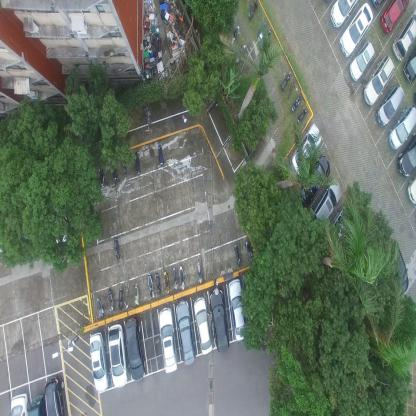car: (338, 1, 374, 57), (361, 54, 396, 108), (288, 122, 322, 176), (299, 151, 330, 210), (312, 174, 343, 226), (124, 316, 146, 382), (158, 306, 179, 375), (175, 299, 196, 367), (107, 322, 128, 389), (88, 330, 110, 393), (209, 287, 230, 353), (388, 103, 416, 152), (192, 296, 214, 356), (385, 237, 408, 294), (228, 277, 248, 342), (375, 83, 404, 127), (392, 8, 416, 61), (325, 205, 352, 247), (348, 40, 375, 81), (379, 0, 409, 35), (396, 130, 416, 177), (44, 374, 64, 415), (10, 389, 29, 415), (403, 44, 415, 83), (404, 171, 416, 206), (28, 392, 45, 416)
